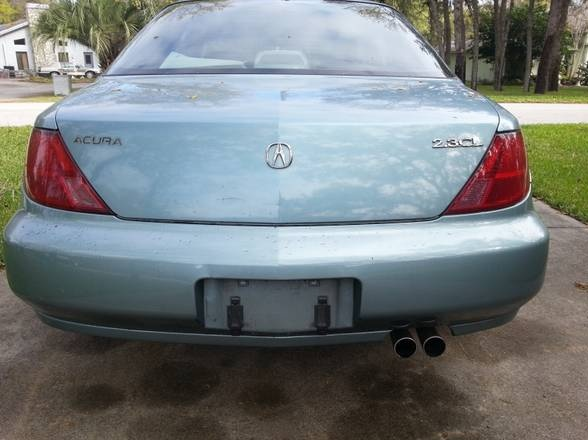acura: (1, 1, 579, 376)
